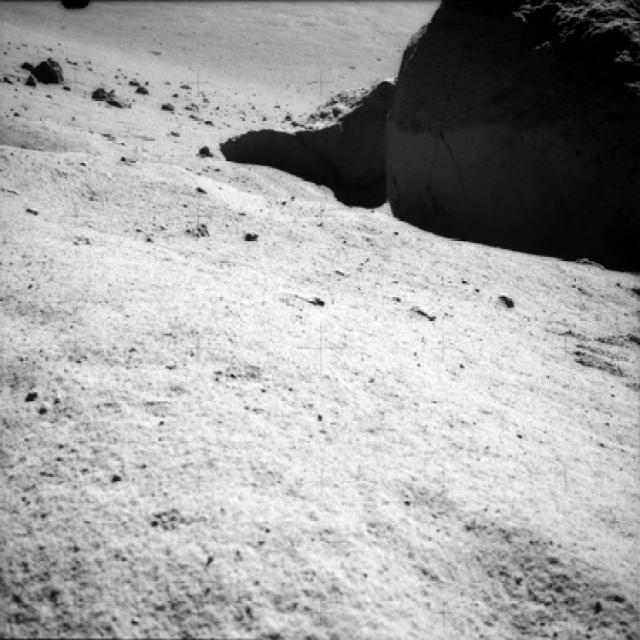crater: (51, 184, 259, 257), (179, 145, 300, 205), (0, 113, 104, 166)
rock: (381, 0, 639, 271), (34, 45, 73, 94), (91, 68, 132, 112), (127, 79, 149, 99), (195, 138, 214, 160)
